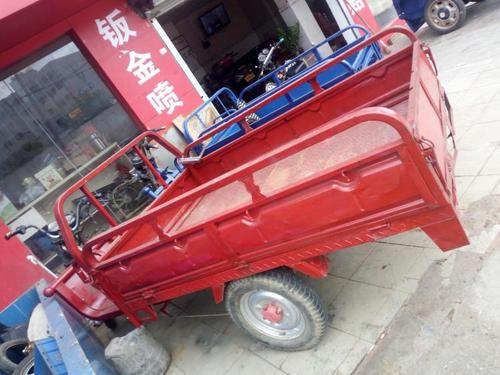tricycle: (30, 40, 478, 352)
